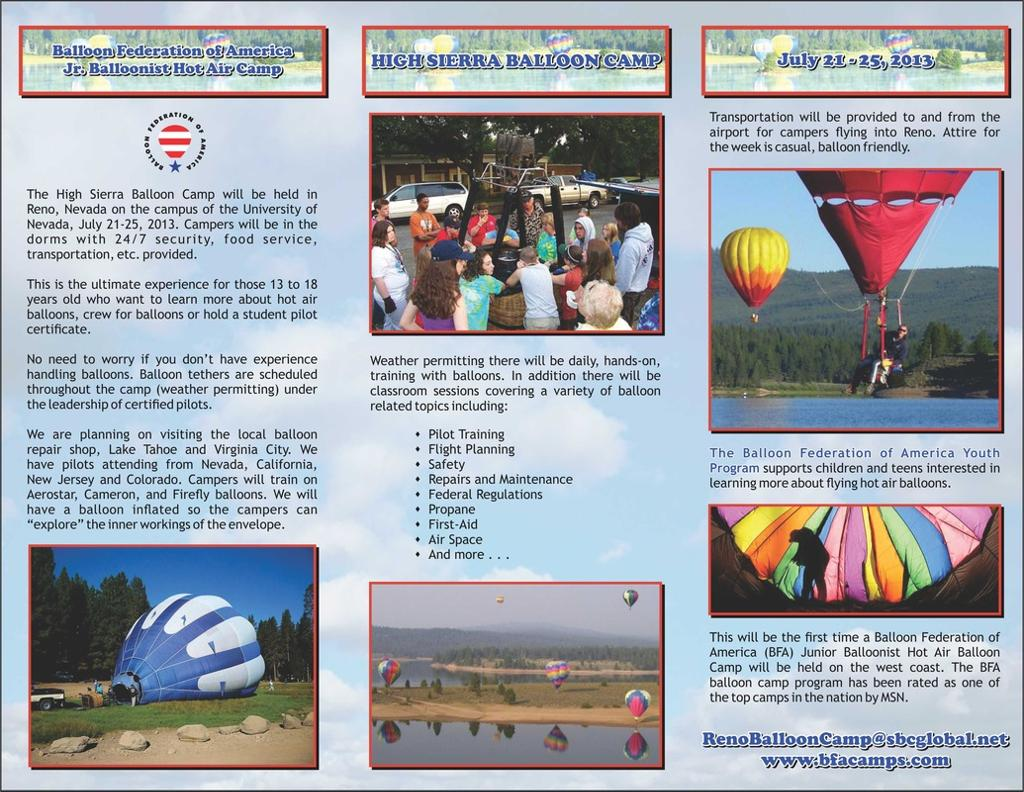face: (576, 283, 590, 316), (483, 254, 495, 274), (382, 225, 395, 242), (453, 257, 466, 272), (615, 215, 627, 230), (581, 247, 591, 263), (575, 224, 585, 238), (449, 223, 459, 235), (380, 204, 389, 216), (420, 196, 429, 208), (602, 225, 610, 237), (522, 197, 531, 207), (898, 326, 906, 337), (479, 208, 487, 217), (577, 212, 585, 221), (543, 222, 550, 231)
